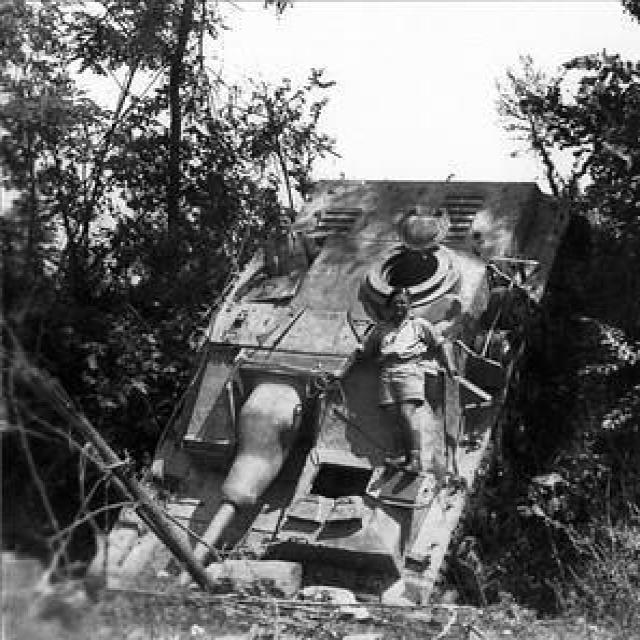Tanks: (116, 175, 567, 581)
